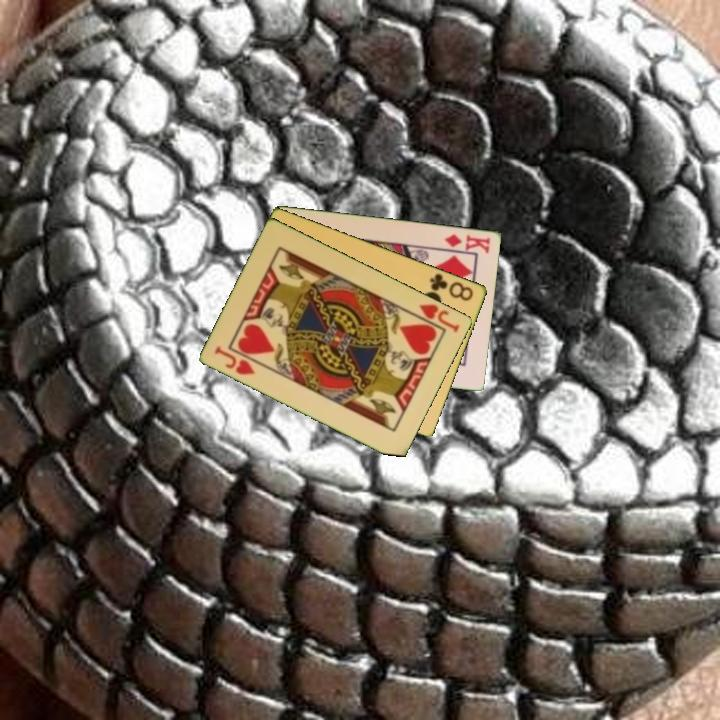8c: (427, 269, 477, 304)
Jh: (211, 342, 258, 378), (416, 300, 463, 335)
Kd: (441, 230, 493, 255)
